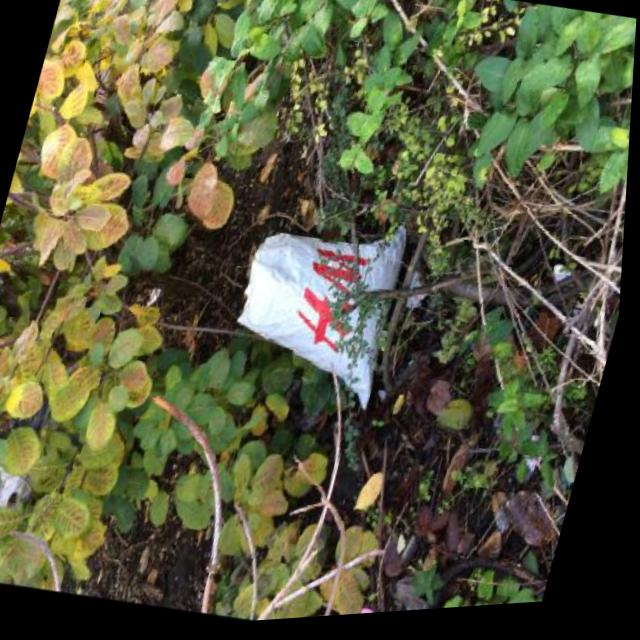plastic: (212, 189, 417, 421)
